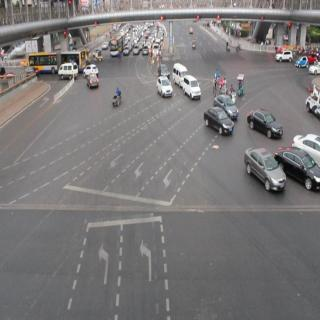Car: (243, 146, 283, 200), (280, 148, 319, 196), (246, 106, 283, 143), (205, 104, 232, 140), (216, 93, 241, 122), (184, 77, 201, 105), (156, 78, 173, 100), (276, 49, 294, 68), (174, 62, 188, 84), (59, 62, 75, 80), (296, 52, 309, 71), (87, 73, 99, 92), (152, 42, 160, 57), (141, 44, 149, 56), (123, 45, 129, 58), (133, 44, 139, 56)
